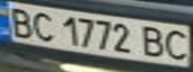1: (57, 13, 81, 46)
2: (112, 20, 139, 55)
7: (93, 17, 115, 52), (75, 15, 96, 48)
B: (3, 3, 39, 38), (136, 24, 169, 60)
C: (160, 27, 193, 62), (27, 9, 60, 43)
